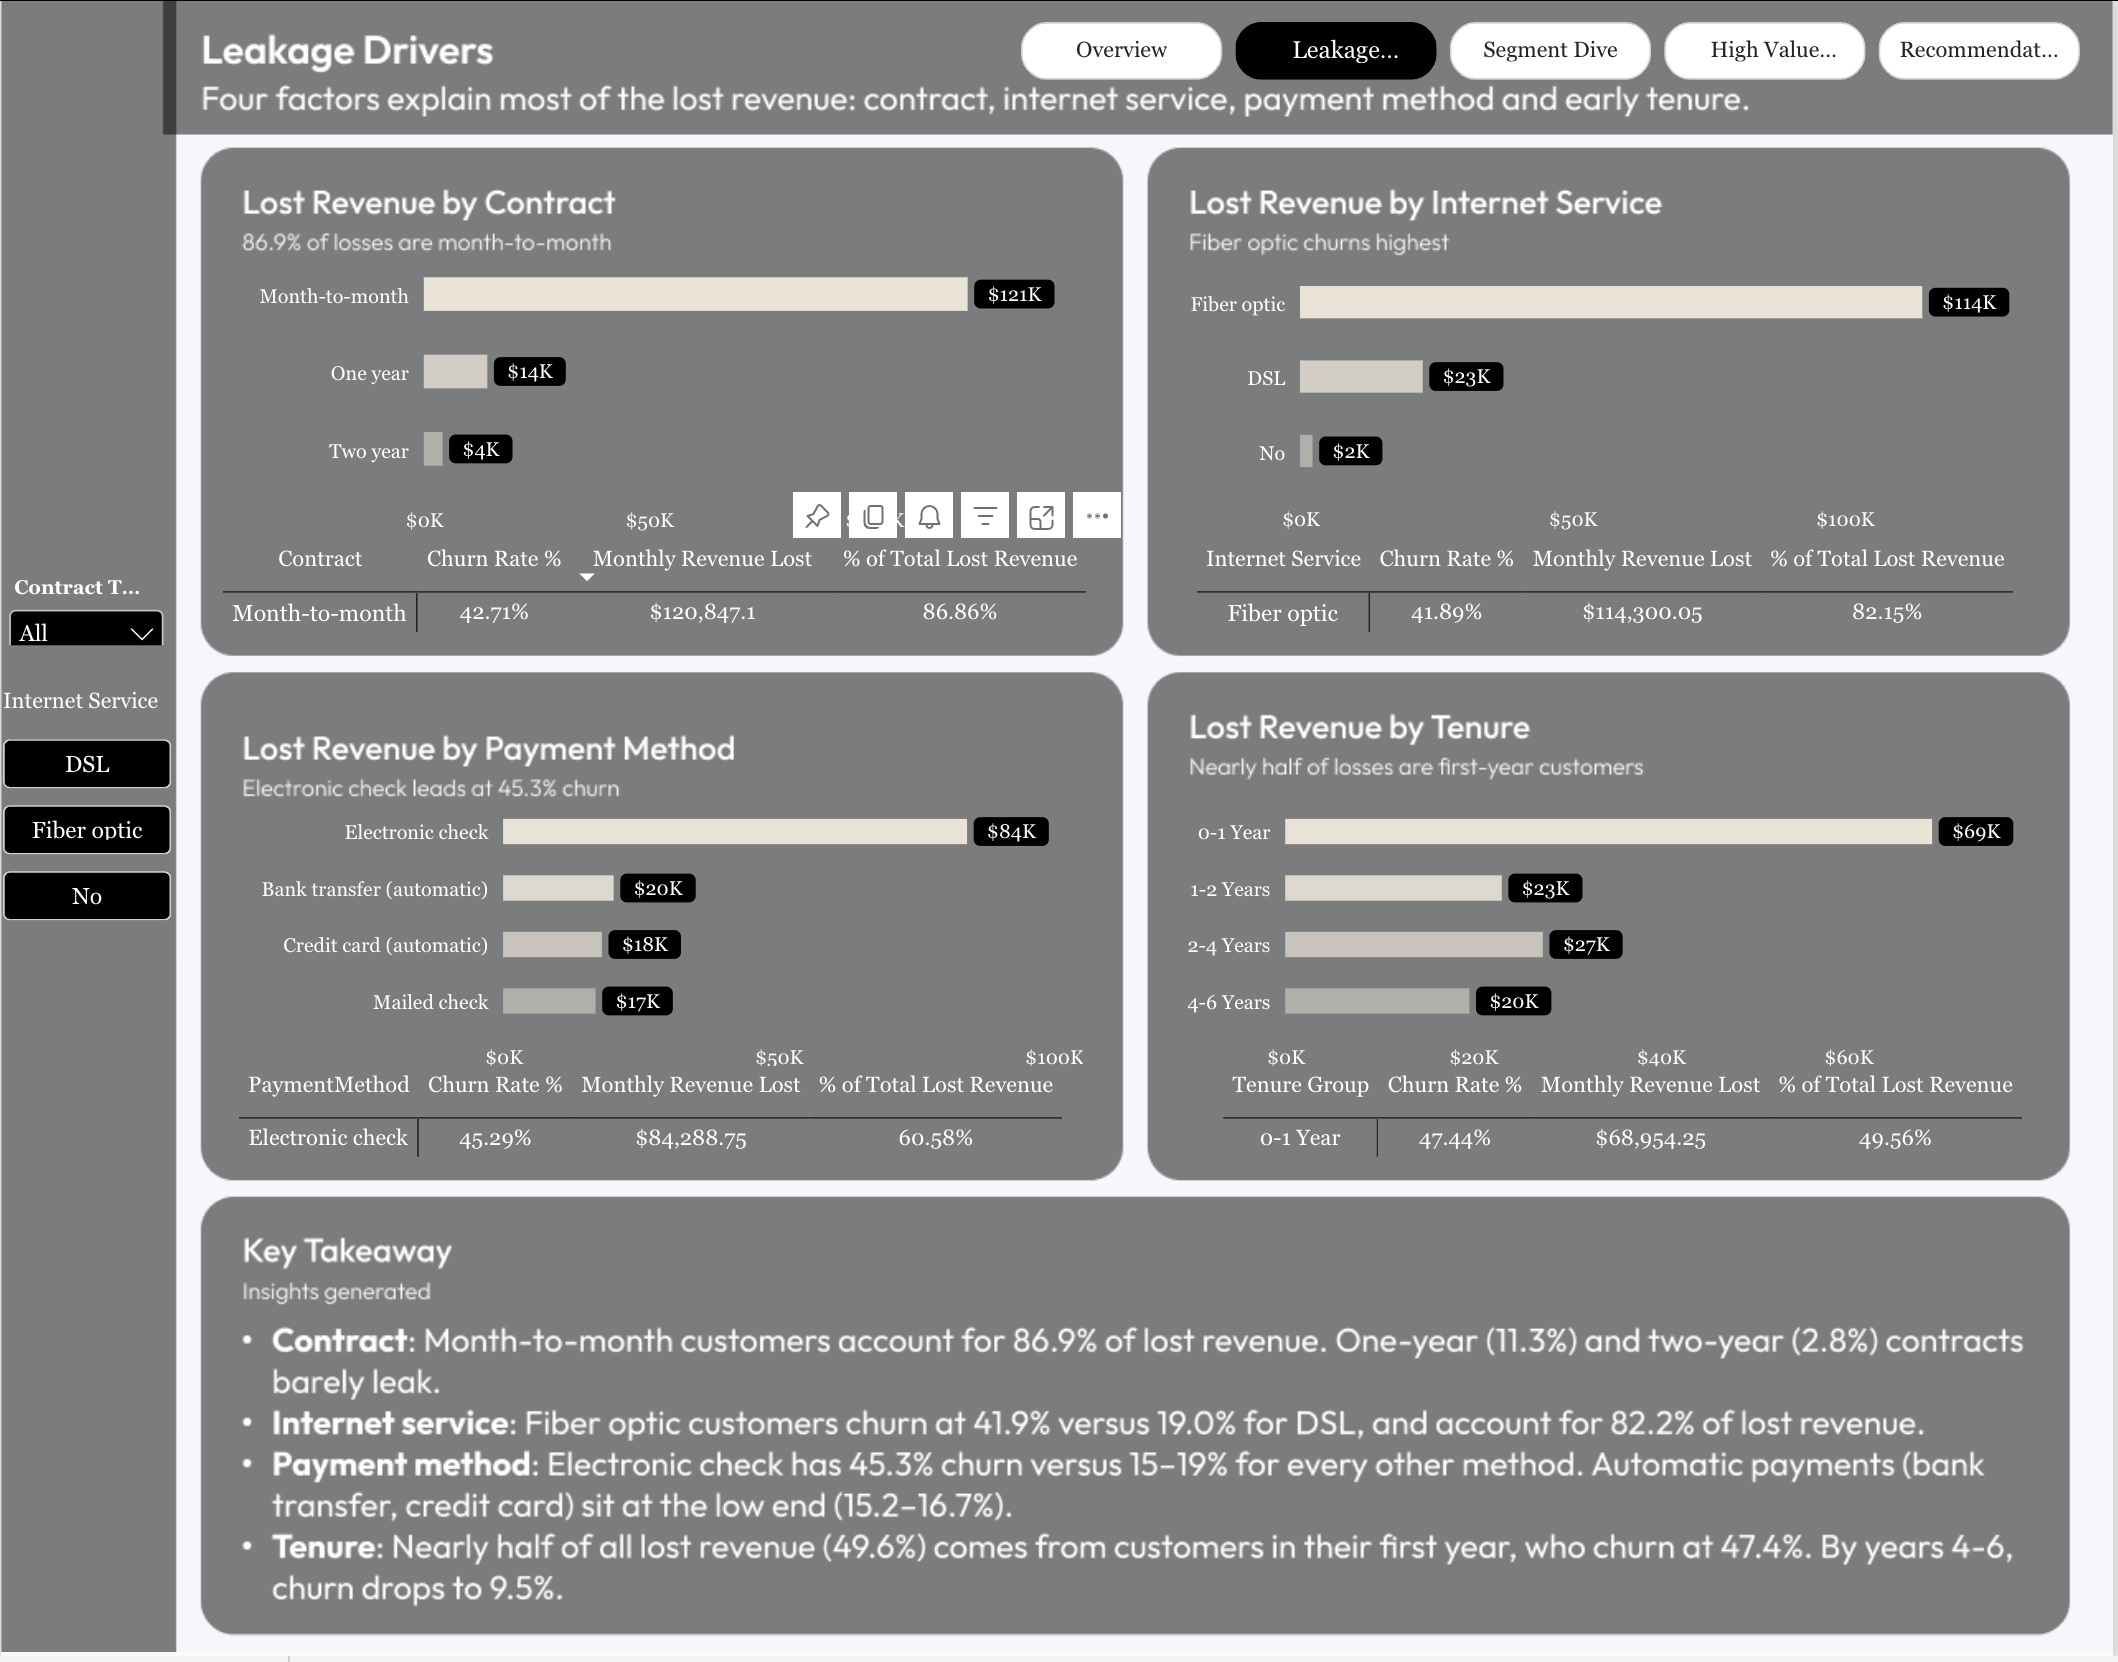

This screenshot's page, from the dashboard's own definition file:
{"tool":"powerbi","page":{"name":"Leakage Driver","canvas":[1280,1004],"ordinal":1},"visuals":[{"type":"clusteredBarChart","fields":{"Category":["Clean IBM Teleco data 2.Contract"],"Y":["Clean IBM Teleco data 2.Monthly Revenue Lost"]},"box":[127.4,127.4,545,214.9],"z":0},{"type":"clusteredBarChart","fields":{"Category":["Clean IBM Teleco data 2.InternetService"],"Y":["Clean IBM Teleco data 2.Monthly Revenue Lost"]},"box":[693.9,133.6,554.2,208.8],"z":1000},{"type":"clusteredBarChart","fields":{"Category":["Clean IBM Teleco data 2.PaymentMethod"],"Y":["Clean IBM Teleco data 2.Monthly Revenue Lost"]},"box":[116.7,460.6,555.7,207.2],"z":2000},{"type":"clusteredBarChart","fields":{"Category":["Clean IBM Teleco data 2.TenureGroup"],"Y":["Clean IBM Teleco data 2.Monthly Revenue Lost"]},"box":[693.9,460.6,554.2,207.2],"z":3000},{"type":"pivotTable","fields":{"Rows":["Clean IBM Teleco data 2.Contract"],"Values":["Clean IBM Teleco data 2.Churn Rate %","Clean IBM Teleco data 2.Monthly Revenue Lost","Clean IBM Teleco data 2.% of Total Lost Revenue"]},"box":[135.1,327,545,72.2],"z":4000},{"type":"pivotTable","fields":{"Rows":["Clean IBM Teleco data 2.InternetService"],"Values":["Clean IBM Teleco data 2.Churn Rate %","Clean IBM Teleco data 2.Monthly Revenue Lost","Clean IBM Teleco data 2.% of Total Lost Revenue"]},"box":[724.6,327,514.3,72.2],"z":5000},{"type":"pivotTable","fields":{"Rows":["Clean IBM Teleco data 2.PaymentMethod"],"Values":["Clean IBM Teleco data 2.Churn Rate %","Clean IBM Teleco data 2.Monthly Revenue Lost","Clean IBM Teleco data 2.% of Total Lost Revenue"]},"box":[144.3,646.3,512.7,67.5],"z":6000},{"type":"pivotTable","fields":{"Rows":["Clean IBM Teleco data 2.TenureGroup"],"Values":["Clean IBM Teleco data 2.Churn Rate %","Clean IBM Teleco data 2.Monthly Revenue Lost","Clean IBM Teleco data 2.% of Total Lost Revenue"]},"box":[724.6,646.3,523.5,67.5],"z":7000},{"type":"slicer","fields":{"Values":["Clean IBM Teleco data 2.Contract"]},"box":[0,349.8,103.5,41.9],"z":8000},{"type":"advancedSlicerVisual","title":"Internet Service","fields":{"Values":["Clean IBM Teleco data 2.InternetService"]},"box":[1.3,416.6,102.2,141.5],"z":9000},{"type":"pageNavigator","box":[618.3,13.6,642.7,35.3],"z":10000}]}

Visuals, with their boxes on the page's 1280x1004 design canvas (x1, y1, x2, y2). These are canvas units, not pixel positions in the 2118x1662 screenshot, which may show the page scaled, cropped or inside an application window:
clusteredBarChart - Clean IBM Teleco data 2.Contract x Clean IBM Teleco data 2.Monthly Revenue Lost: BBox(127, 127, 672, 342)
clusteredBarChart - Clean IBM Teleco data 2.InternetService x Clean IBM Teleco data 2.Monthly Revenue Lost: BBox(694, 134, 1248, 342)
clusteredBarChart - Clean IBM Teleco data 2.PaymentMethod x Clean IBM Teleco data 2.Monthly Revenue Lost: BBox(117, 461, 672, 668)
clusteredBarChart - Clean IBM Teleco data 2.TenureGroup x Clean IBM Teleco data 2.Monthly Revenue Lost: BBox(694, 461, 1248, 668)
pivotTable - Clean IBM Teleco data 2.Contract x Clean IBM Teleco data 2.Churn Rate %: BBox(135, 327, 680, 399)
pivotTable - Clean IBM Teleco data 2.InternetService x Clean IBM Teleco data 2.Churn Rate %: BBox(725, 327, 1239, 399)
pivotTable - Clean IBM Teleco data 2.PaymentMethod x Clean IBM Teleco data 2.Churn Rate %: BBox(144, 646, 657, 714)
pivotTable - Clean IBM Teleco data 2.TenureGroup x Clean IBM Teleco data 2.Churn Rate %: BBox(725, 646, 1248, 714)
slicer - Clean IBM Teleco data 2.Contract: BBox(0, 350, 104, 392)
"Internet Service" advancedSlicerVisual: BBox(1, 417, 104, 558)
pageNavigator: BBox(618, 14, 1261, 49)
